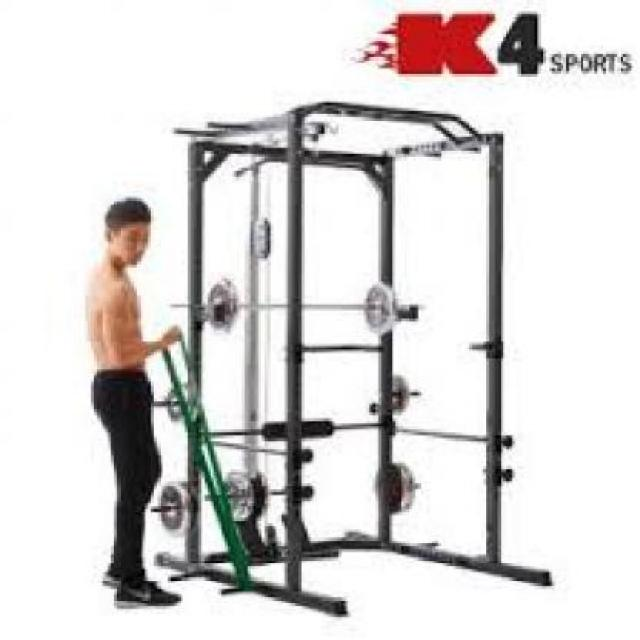smith machine: (180, 100, 557, 618)
